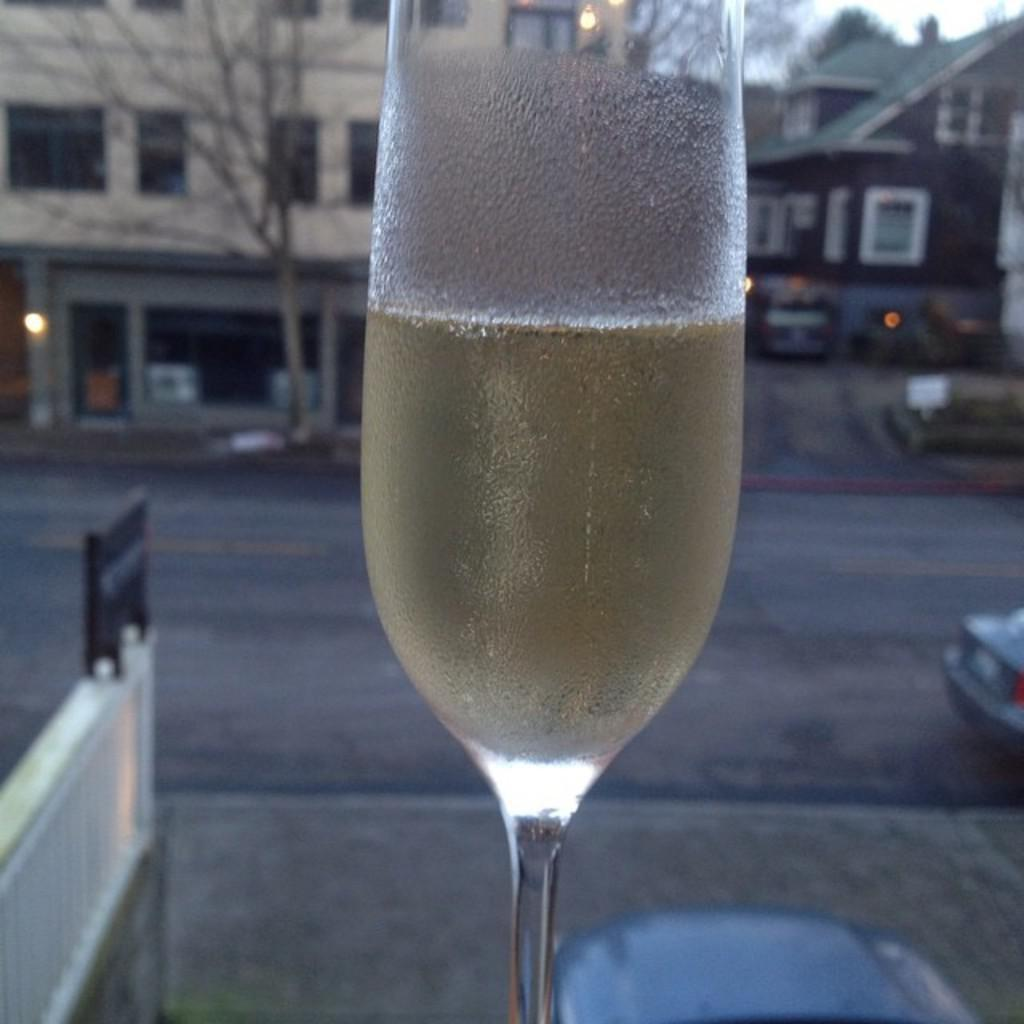glass-wine: (359, 0, 749, 1022)
